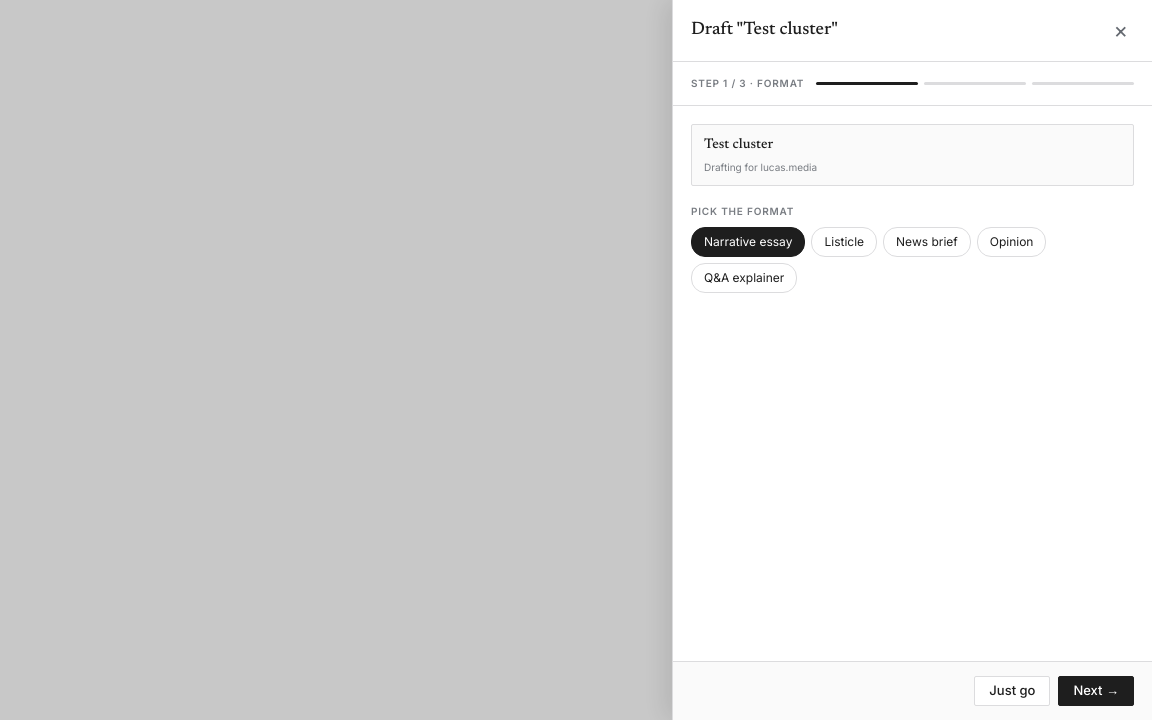
Test: DraftWizardSheet › shows Back button on step 3
Click the button "Next →": (1096, 691) x1=1058 y1=676 x2=1134 y2=706
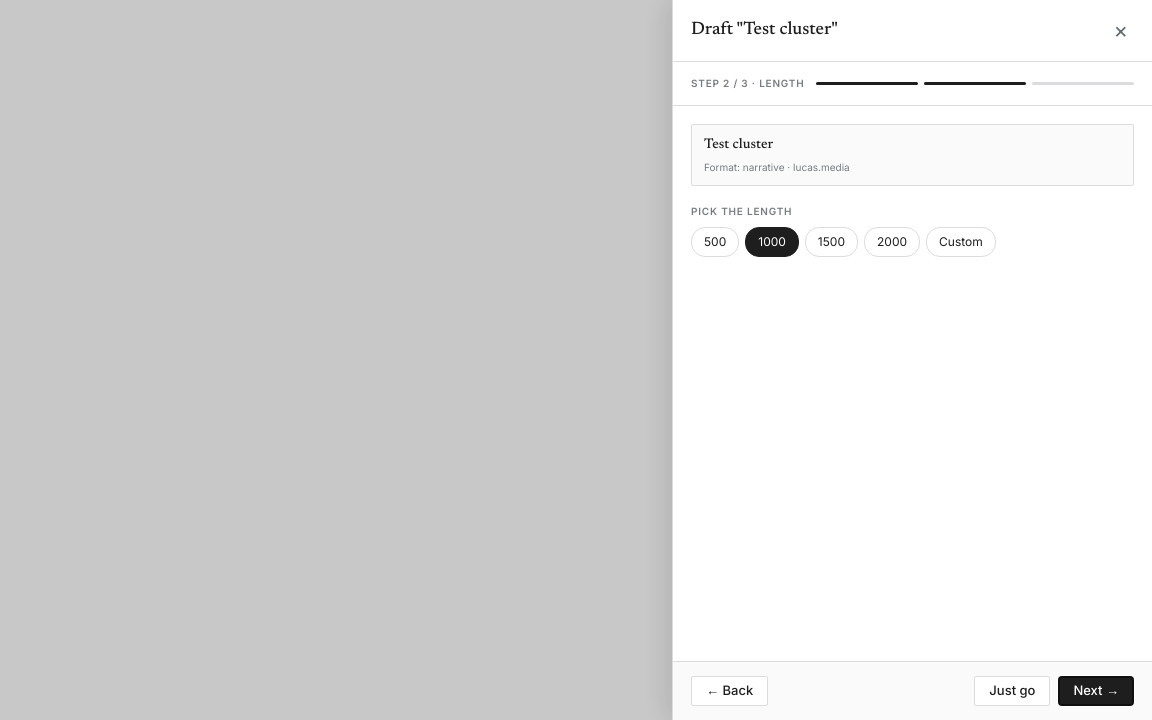
Click the button "Next →": (1096, 691) x1=1058 y1=676 x2=1134 y2=706
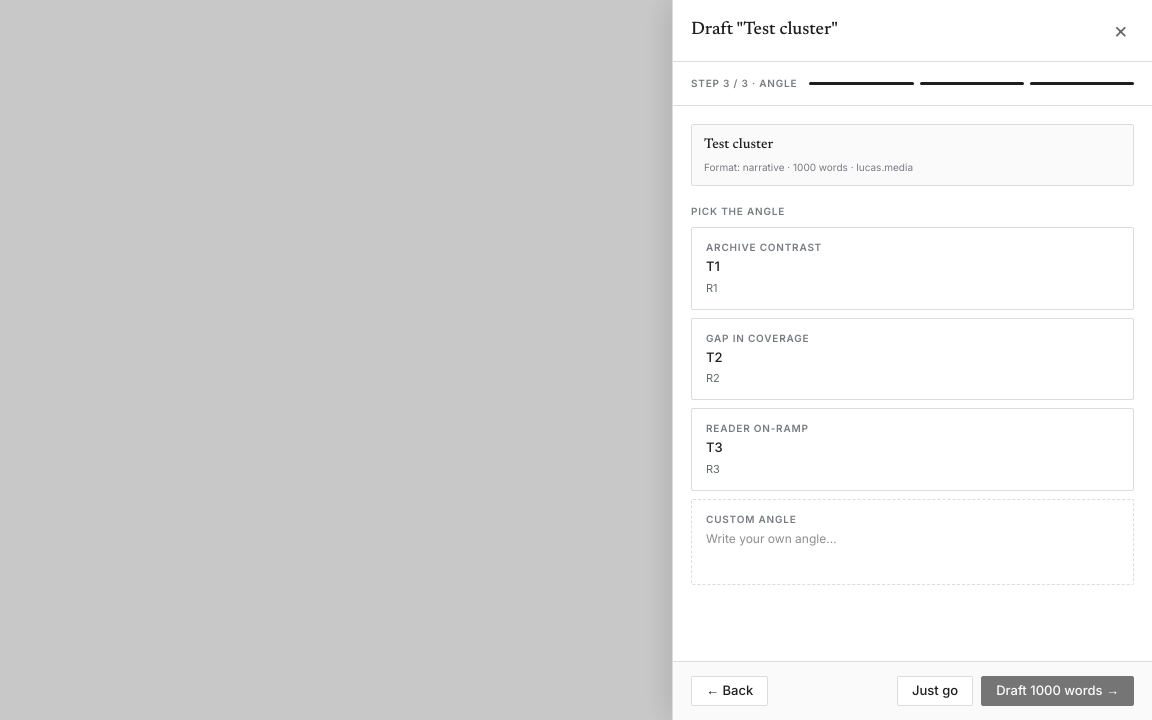
Now the button "← Back" is shown, box x1=691 y1=676 x2=768 y2=706
Now the text "Step 3 / 3 · Angle" is shown, box x1=691 y1=76 x2=797 y2=91
